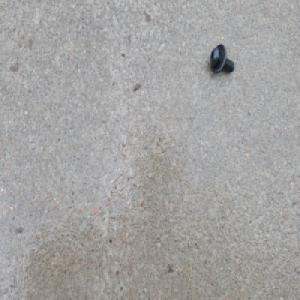BoltWasher: (208, 44, 234, 76)
